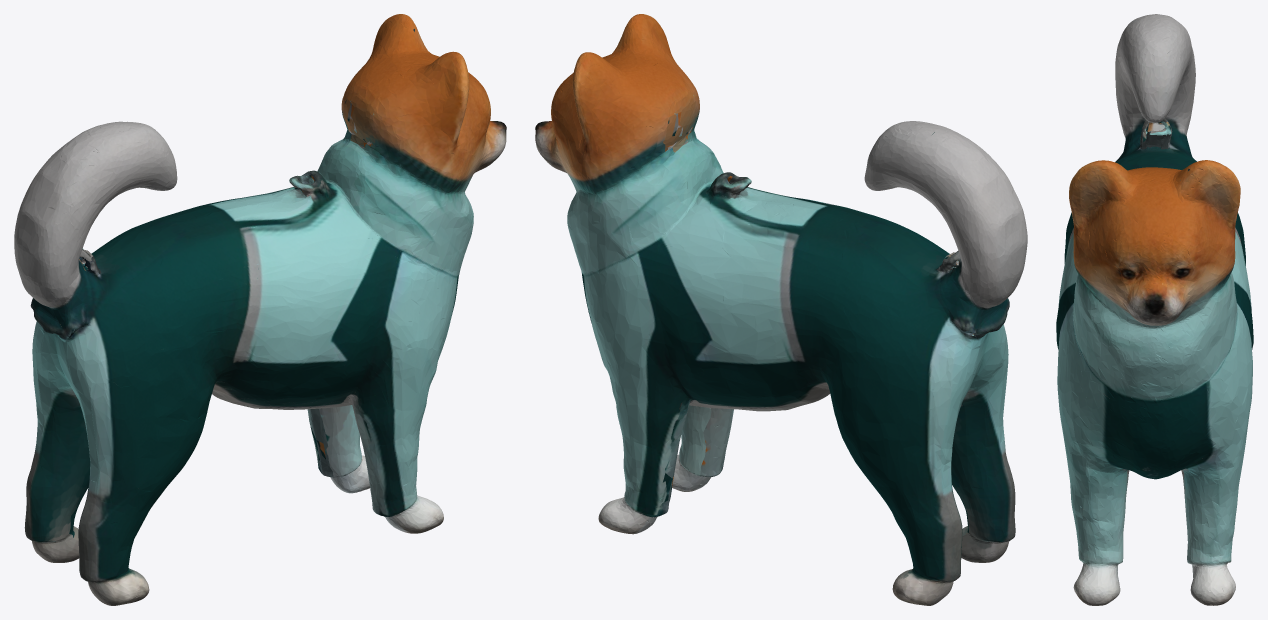
Rendered from pomeranian with sweater.glb.
3 views of the same model, side by side, from view 1: azimuth 30°, elevation 25°; view 2: azimuth 150°, elevation 25°; view 3: azimuth 270°, elevation 25° (orthographic).
Visible parts, largest first — view 1: world; view 2: world; view 3: world.
Part boxes in pixels (<box>): world: <box>14,14,506,605</box>; world: <box>535,14,1027,605</box>; world: <box>1056,14,1253,605</box>.
Bounding box in the file's own units: 1.99 × 1.84 × 0.7154.
1 material, 1 textured.
